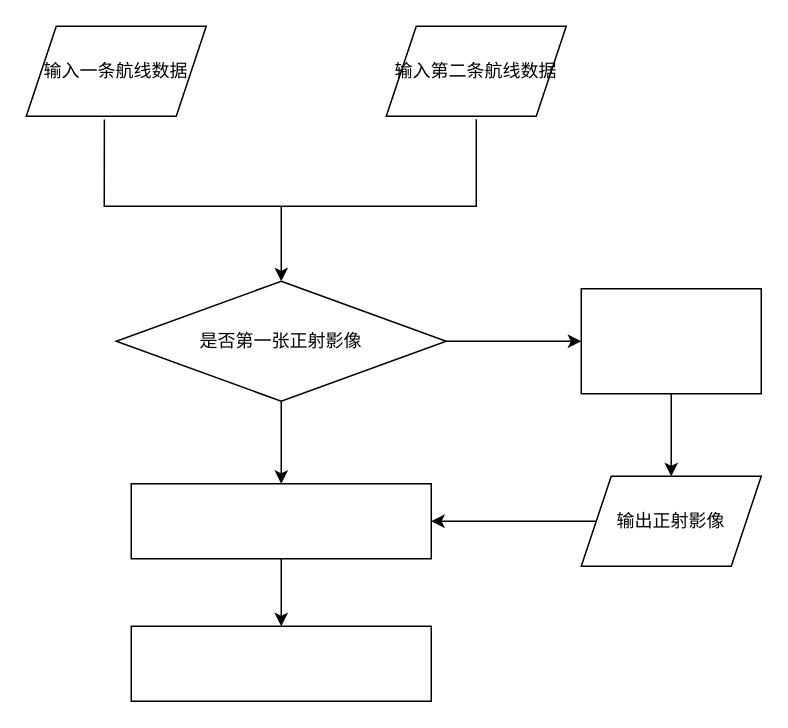
Some shapes in this 788 by 728 pixel diagram are drawn without their labels. Each missing label, with the centre of its shape:
创建输出正射影像: pixel 670 340
当前正射影像进行配准，记录尺寸和坐上角角点坐标: pixel 280 520
